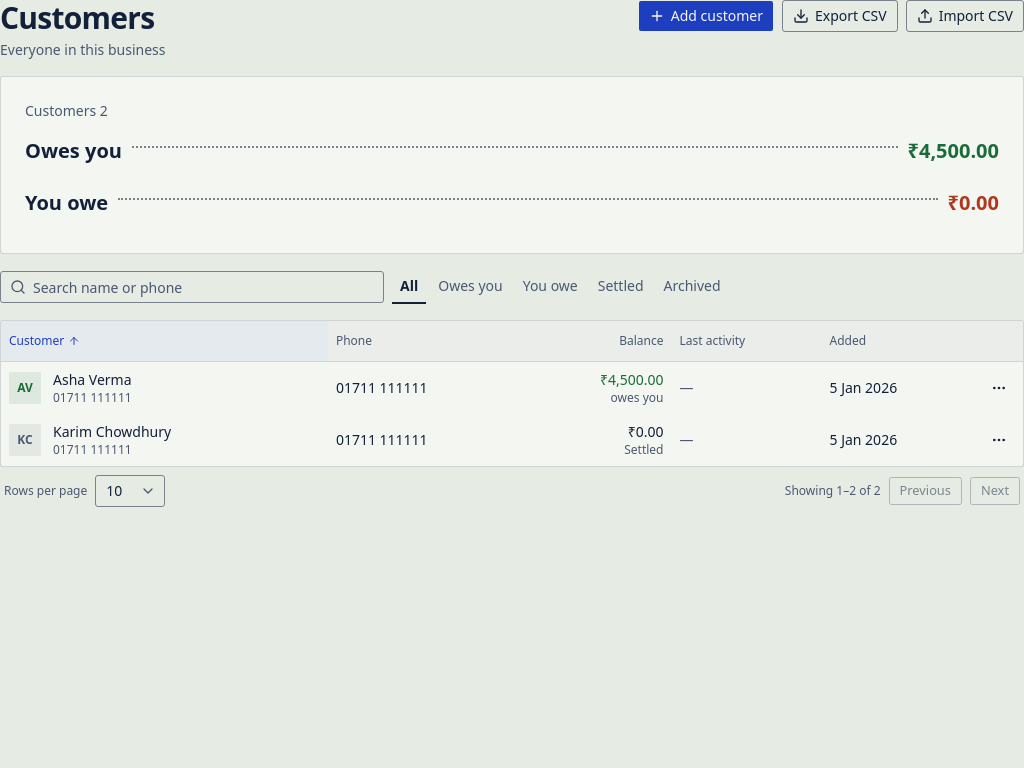
it: S-30 archive, restore and delete › warns about kept history — and about totals only when the balance is not zero
Click the button named "Actions for Asha Verma".
click(999, 388)  # box [983, 372, 1015, 404]
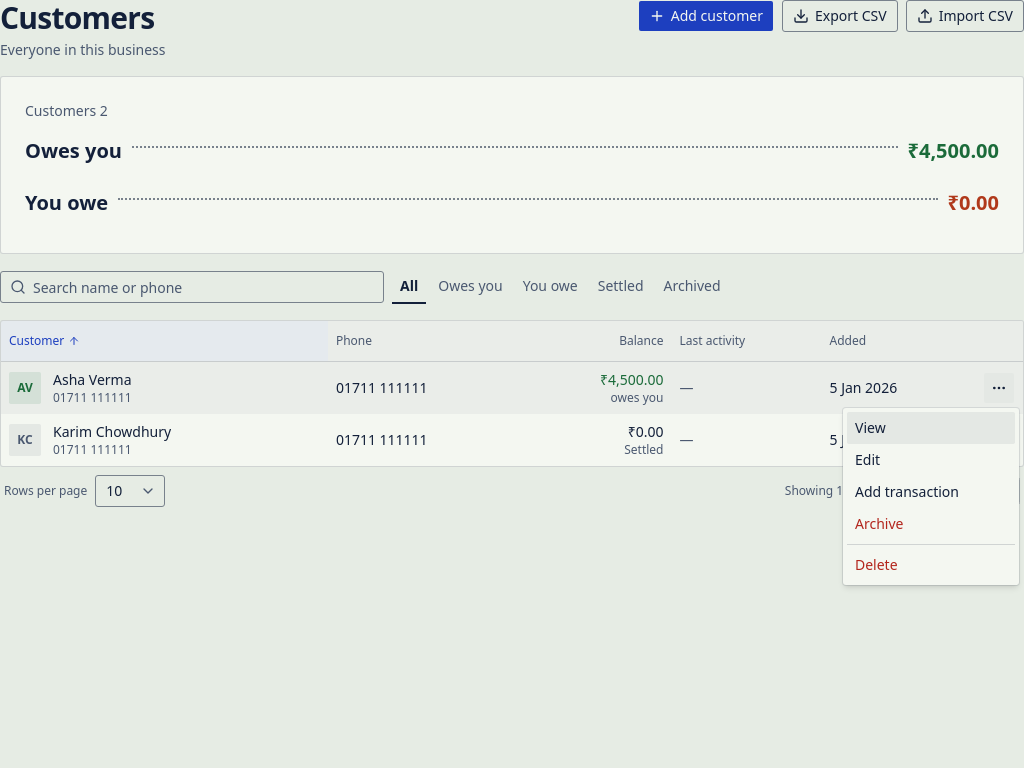
Click the menu item "Archive".
click(931, 524)  # box [847, 508, 1015, 540]
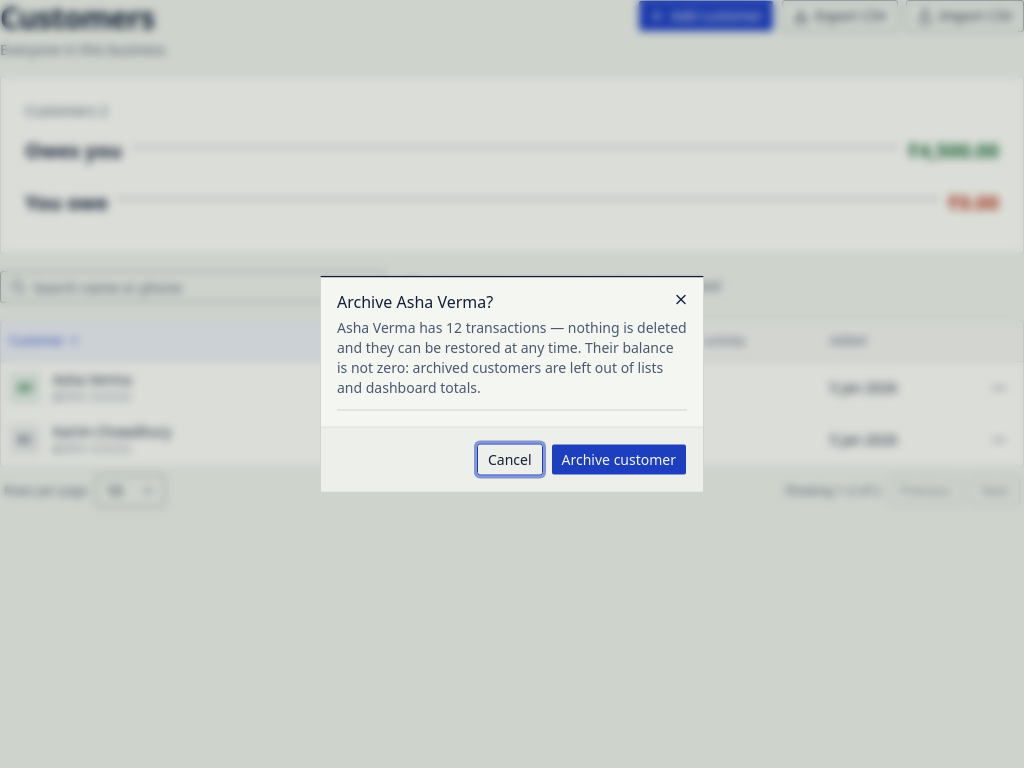
Check: the heading "Archive Asha Verma?" is shown, box [337, 290, 493, 312]
Check: the text "left out of lists and dashboard totals" is shown, box [337, 318, 687, 396]
Check: the button "Archive customer" is shown, box [550, 444, 687, 476]
Click the button "Cancel".
click(510, 460)  # box [477, 444, 543, 476]
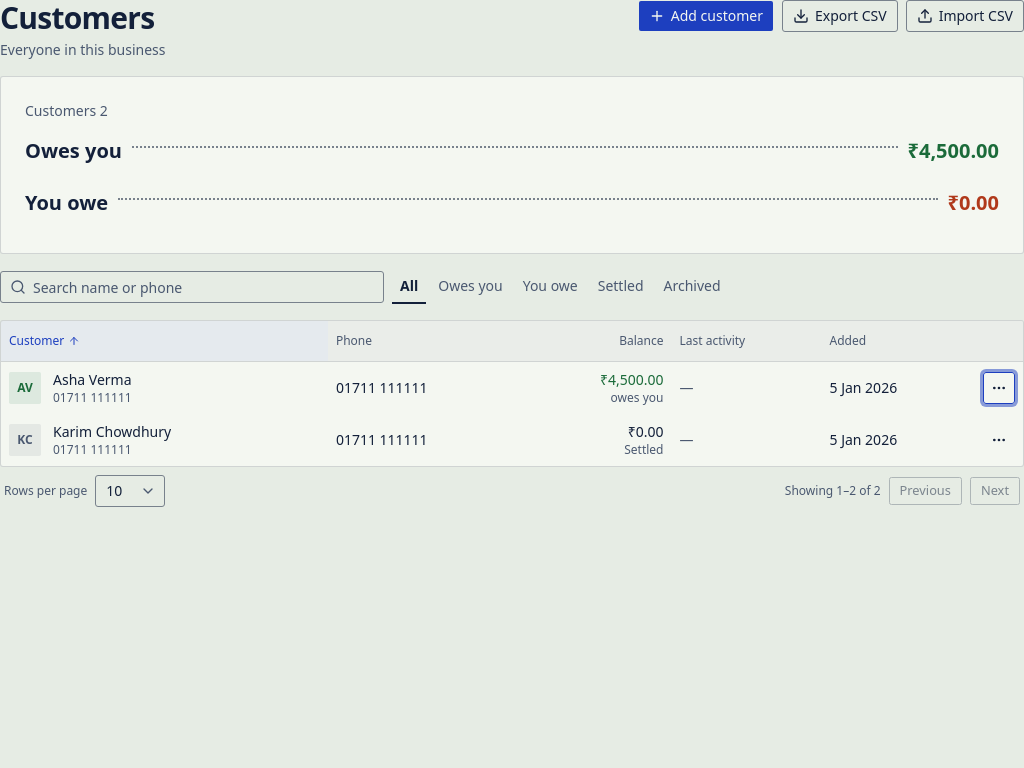
Check: the dialog is gone
Click the button named "Actions for Karim Chowdhury".
click(999, 440)  # box [983, 424, 1015, 456]
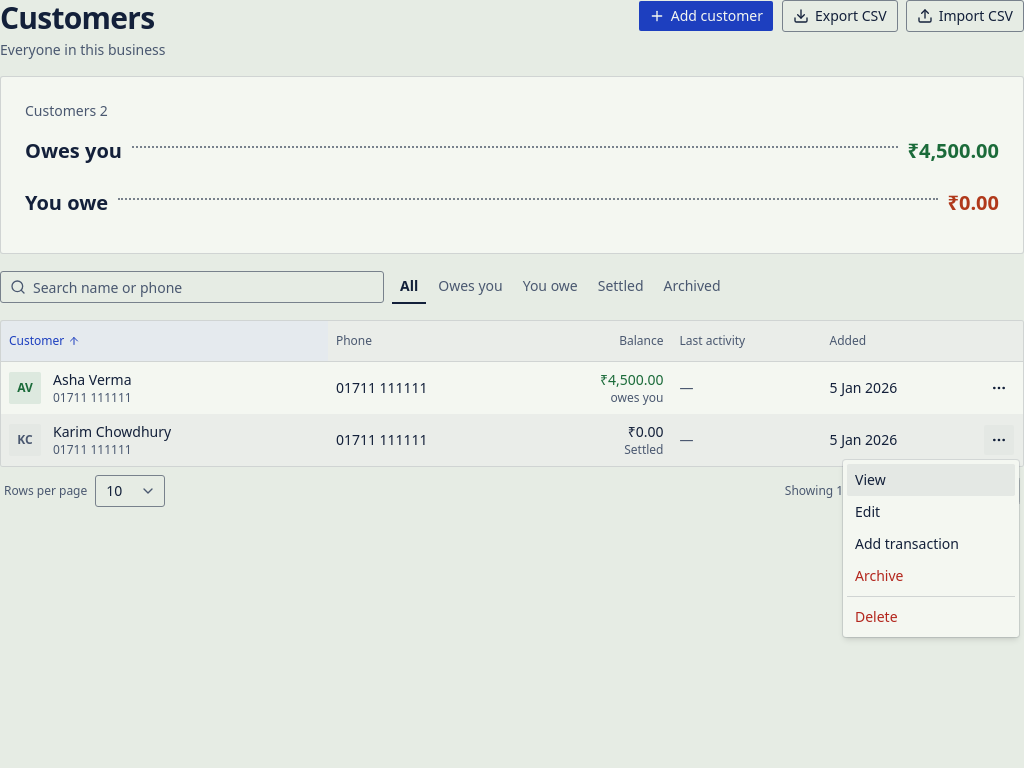
Click the menu item "Archive".
click(931, 576)  # box [847, 560, 1015, 592]
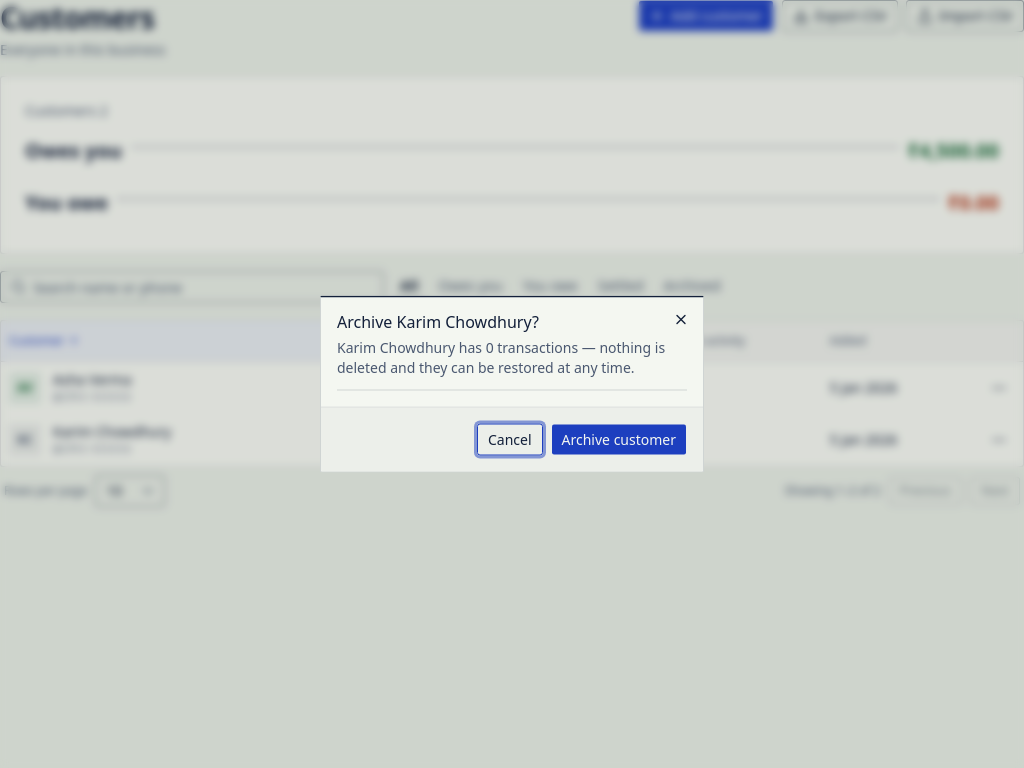
Check: the text "has 0 transactions" is shown, box [337, 338, 665, 376]
